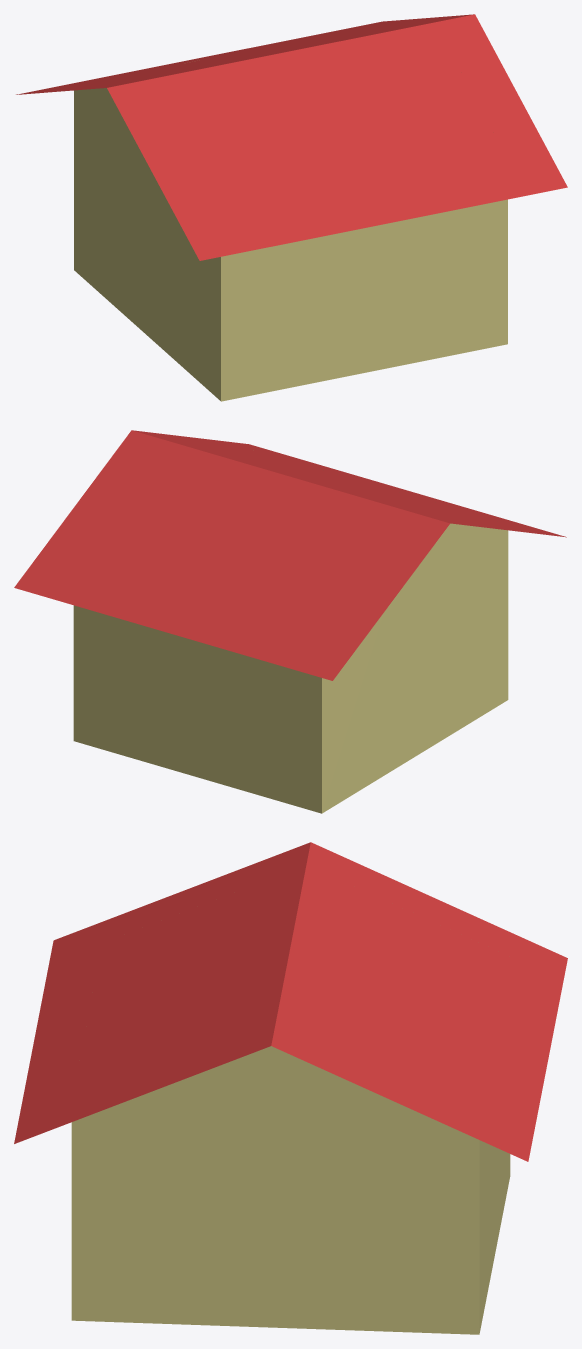
3 renders of one model, top to bottom at view 1: azimuth 30°, elevation 25°; view 2: azimuth 150°, elevation 25°; view 3: azimuth 270°, elevation 25°, orthographic. The views are drawn at different scales.
Bounding box in the file's own units: 14.73 × 15.55 × 9.42.
